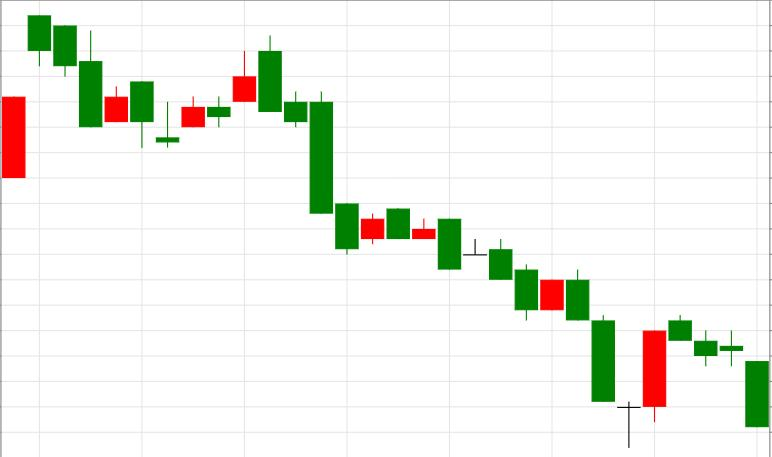morning_star_rise: (258, 36, 666, 448)
